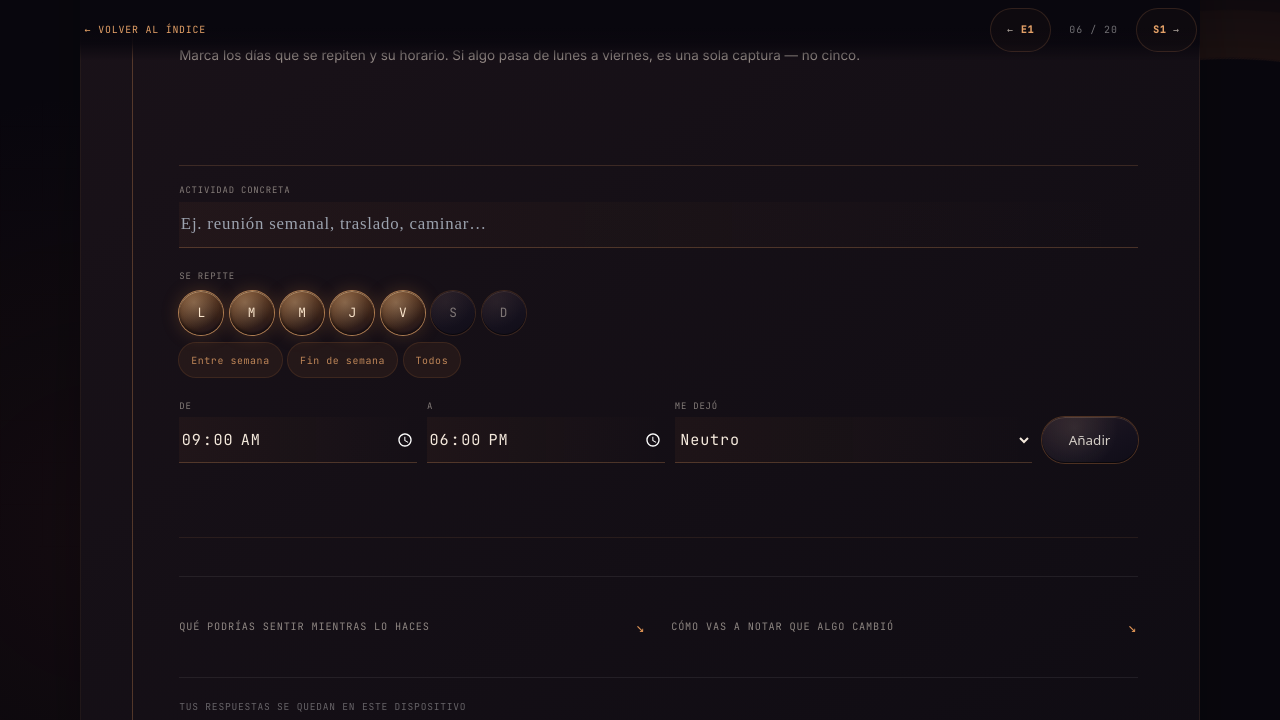
Scenario: cuaderno de trabajo › E2 ofrece atajos de semana y respeta el area tactil de los dias
(page scrolled)
Click the button "Fin de semana". click: (343, 360)
box: [288,344,397,378]
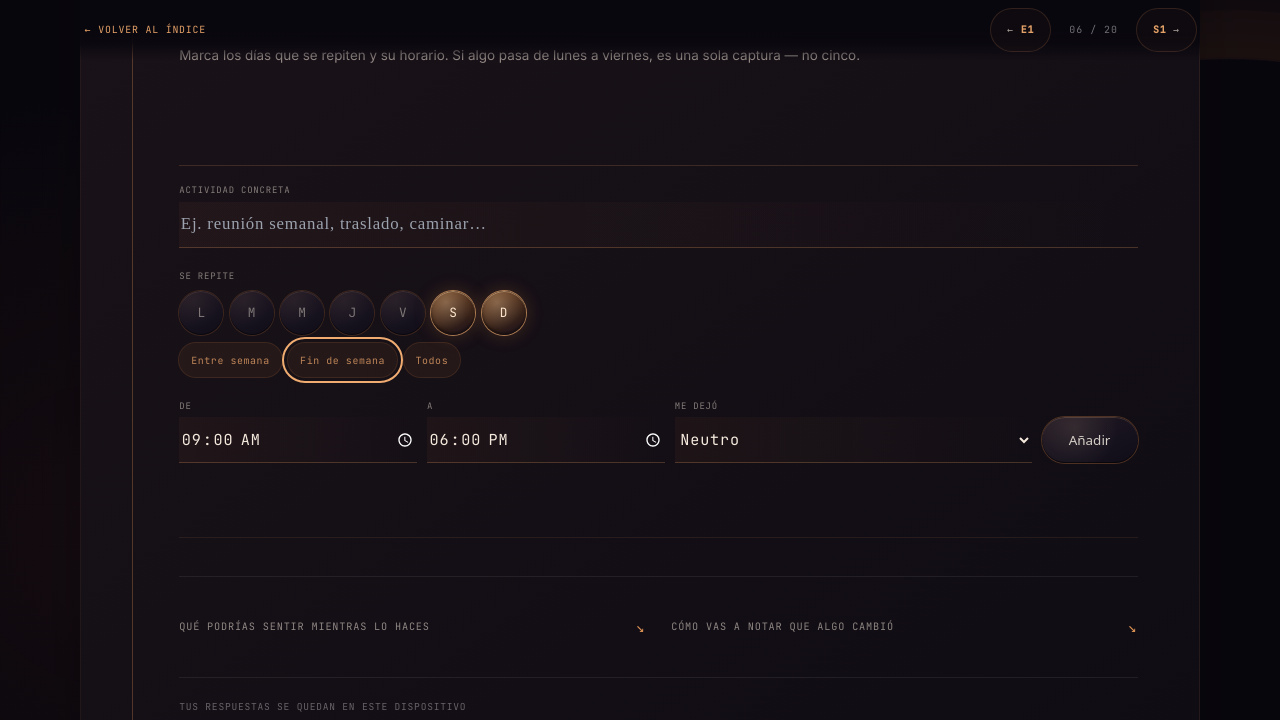
Expected: the element with class "energy-days-picker" is shown, [179,270,526,378]
Expected: the checkbox named "Sábado" is checked, [431,291,475,335]
Expected: the checkbox named "Lunes" is not checked, [179,291,223,335]
